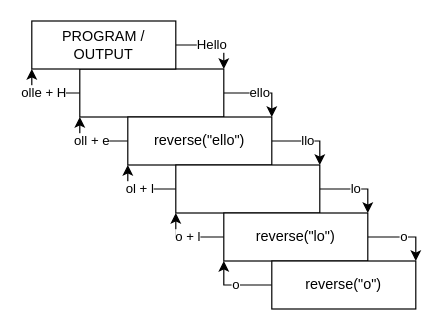
Image size: 446x330. Some labels were removed from this diagram. Each missing label, with the centre of its shape:
reverse("Hello"): (x=151, y=92)
reverse("llo"): (x=247, y=188)
